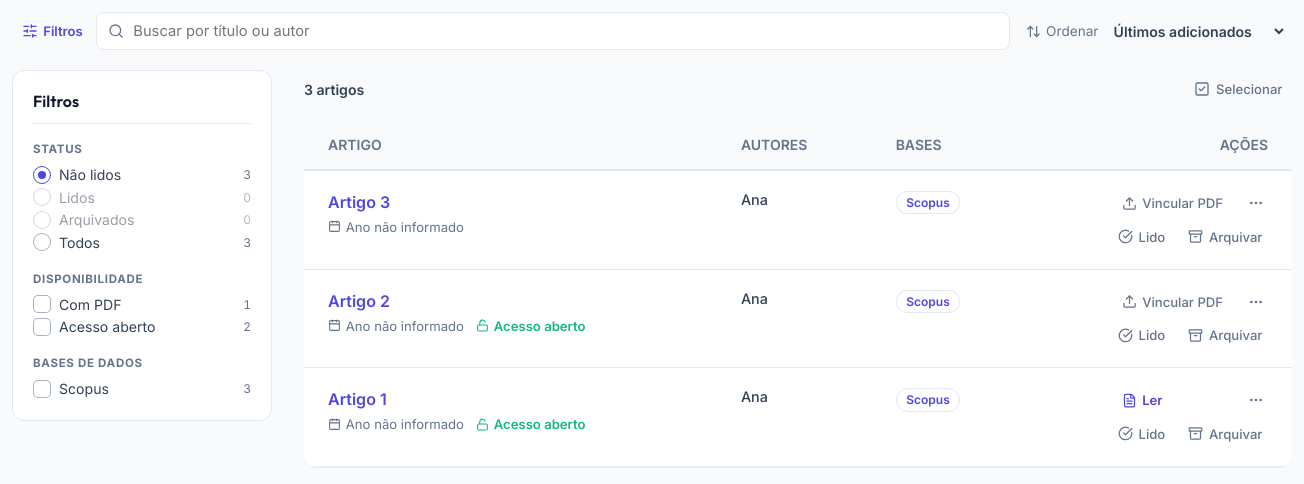
it: ProjectArticlesTab result line › says how many articles the filters leave and lists them as chips
Click the checkbox named "Acesso aberto," at {"x": 42, "y": 327}, box [33,318,51,336]
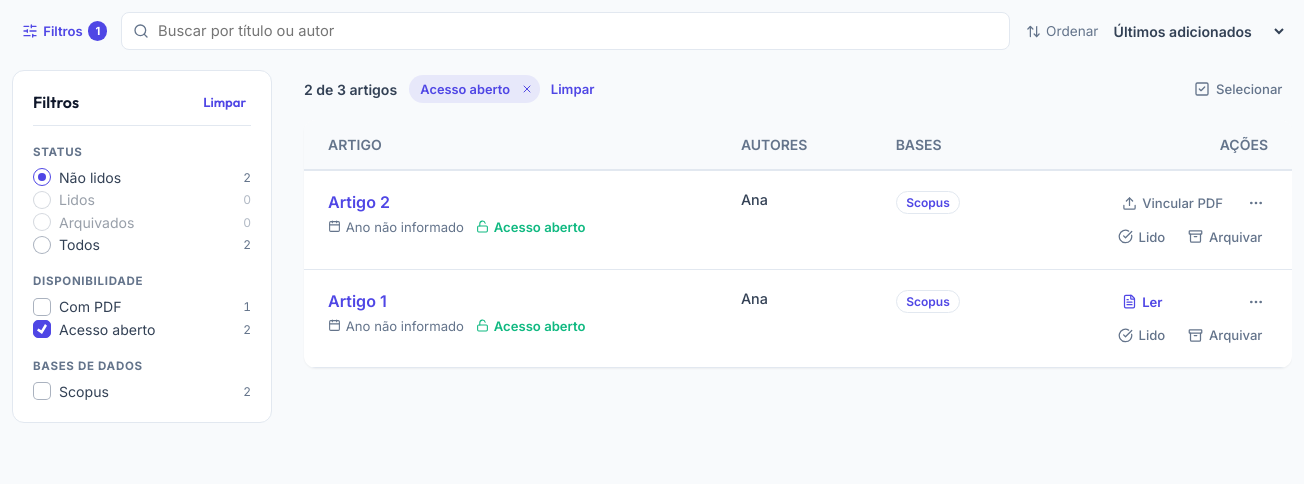
Click the checkbox named "Com PDF," at {"x": 42, "y": 307}, box [33,298,51,316]
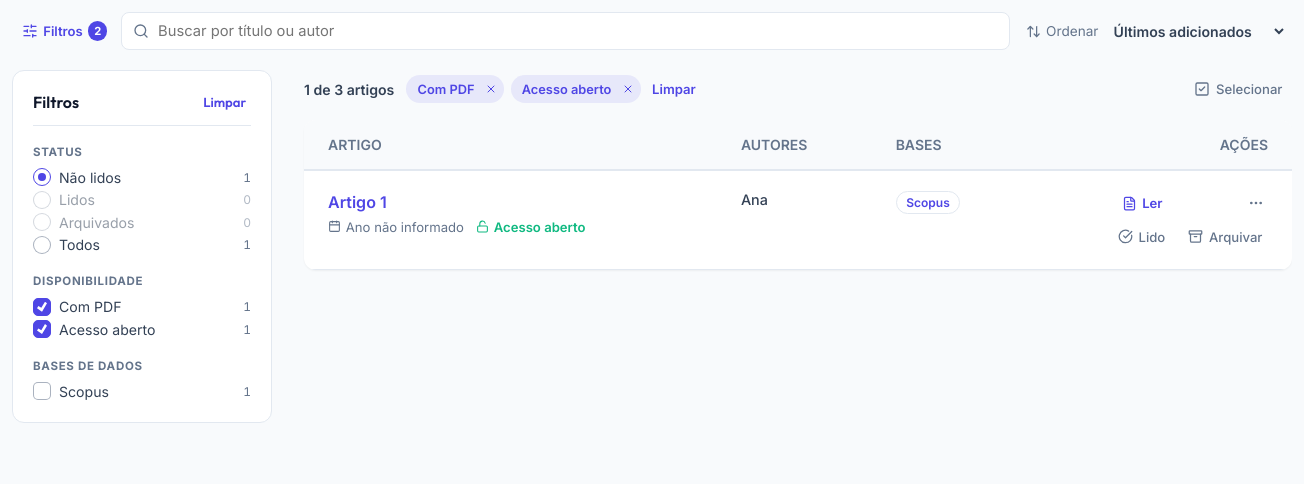
Expected: the button named "Remover filtro Acesso aberto" is shown, [616,79,636,99]
Expected: the text "1 de 3 artigos" is shown, [304,80,394,98]
Expected: the button named "Remover filtro Com PDF" is shown, [479,79,499,99]
